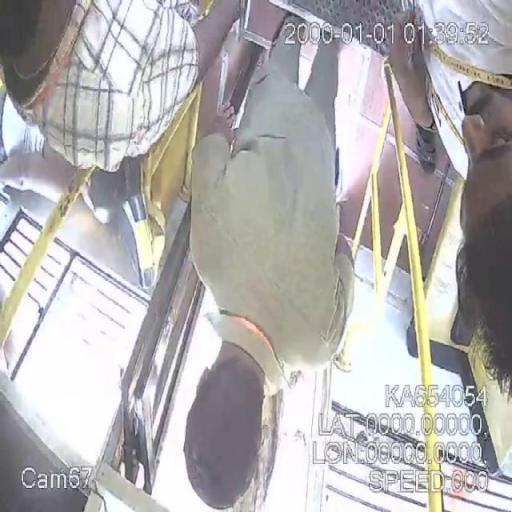persona: (183, 12, 358, 504), (385, 0, 512, 478), (0, 3, 246, 176)
